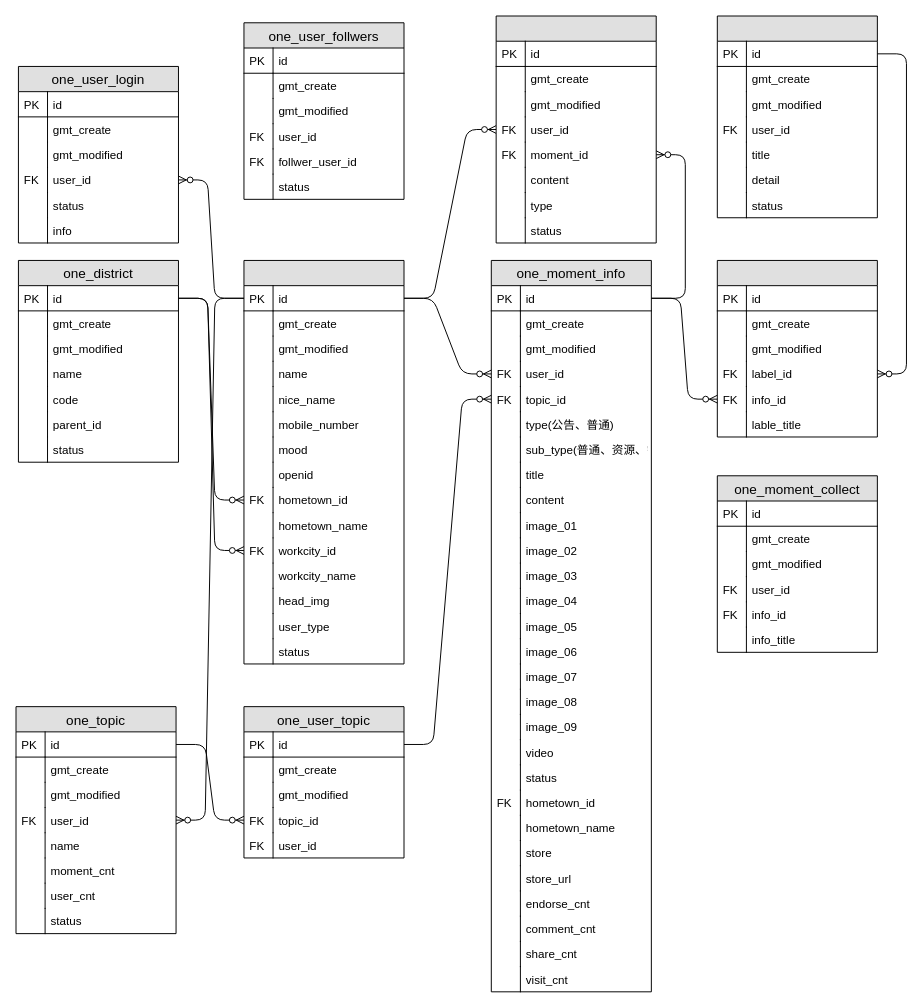
The diagram is 922 pixels wide and 1008 high, and some of its shapes have lost their labels. The box of each missing label's shape, as (x1, y1, x2, y2) in pixels:
one_label: (716, 15, 877, 218)
one_moment_interact: (495, 15, 656, 243)
one_moment_tags: (716, 259, 877, 437)
one_user_info: (243, 259, 404, 664)
